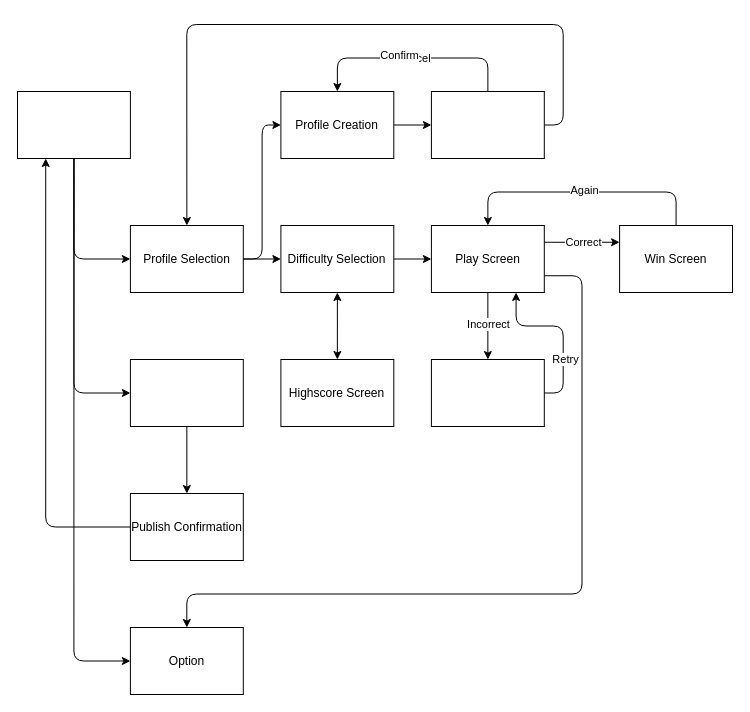
Some shapes in this 750 by 712 pixel diagram are drawn without their labels. The shapes that lost their labels are listed below. From the top down, each one's centre as x and y in pixels, then its label:
pixel 73 124: Main Menu
pixel 487 124: Creation Confirmation
pixel 186 392: Level Editor
pixel 487 392: Fail Screen
